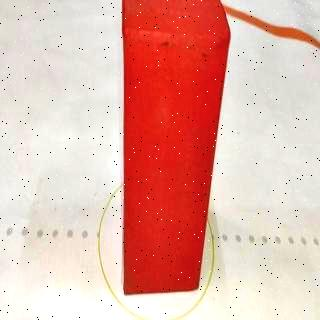redbox: (121, 0, 231, 292)
